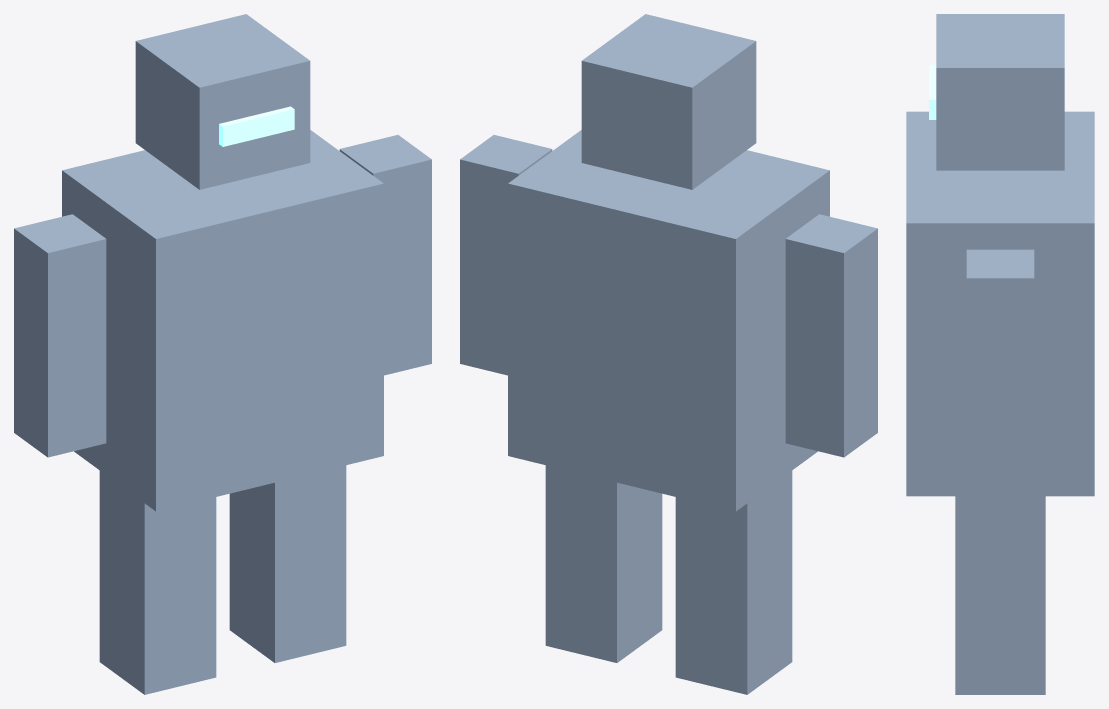
Rendered from sentinel.glb.
3 views of the same model, side by side, from view 1: azimuth 30°, elevation 25°; view 2: azimuth 150°, elevation 25°; view 3: azimuth 270°, elevation 25° (orthographic).
Parts seen in each view (by area): view 1: core; view 2: core; view 3: core.
Boxes of the visible parts, x1=… form: core: x1=14, y1=14, x2=431, y2=694; core: x1=460, y1=14, x2=877, y2=694; core: x1=906, y1=14, x2=1094, y2=694.
Bounding box in the file's own units: 1.18 × 1.77 × 0.5.
